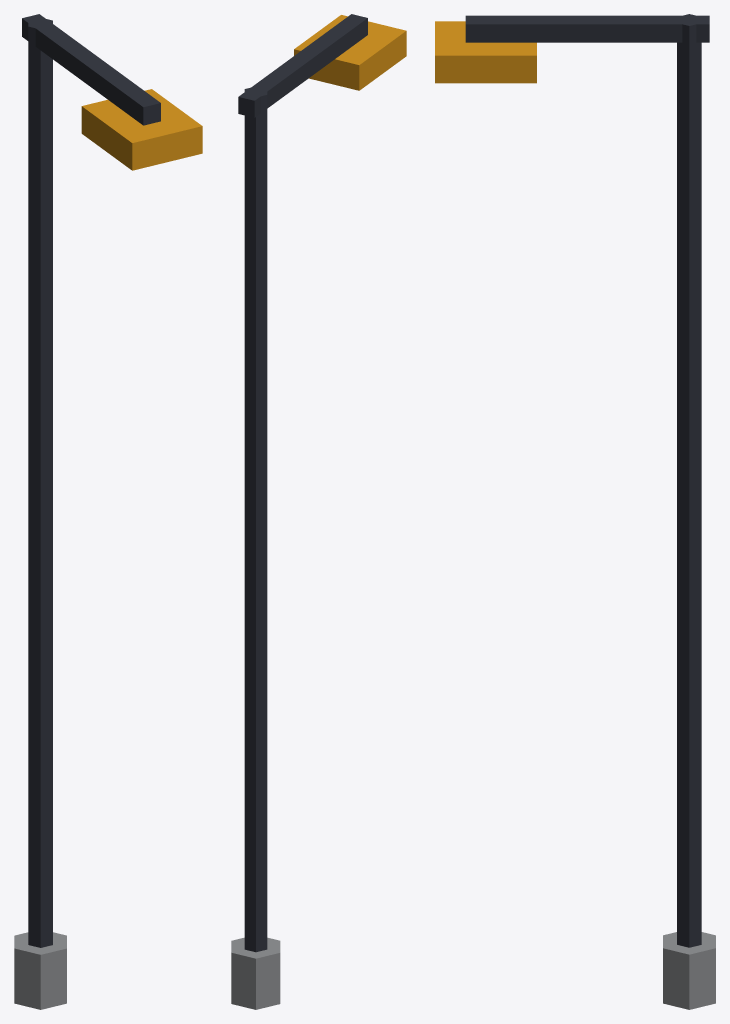
Rendered from street_light.glb.
3 renders of one model, left to right at view 1: azimuth 30°, elevation 25°; view 2: azimuth 150°, elevation 25°; view 3: azimuth 270°, elevation 25°, orthographic. The views are drawn at different scales.
Visible parts, largest first — view 1: model; view 2: model; view 3: model.
Boxes of the visible parts, box(x1,y1,x2,y2) form: model: box(14, 14, 202, 1009); model: box(231, 14, 406, 1009); model: box(435, 14, 715, 1009).
Bounding box in the file's own units: 0.4 × 5.3 × 1.38.
